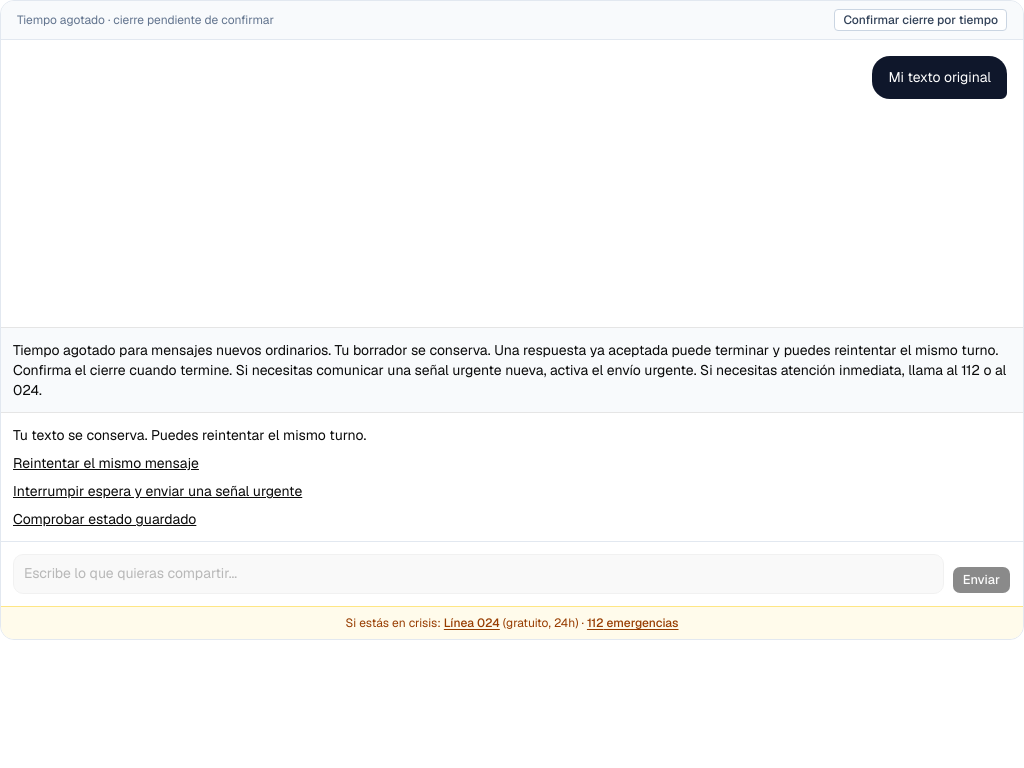
it: allows retrying the same accepted turn after the displayed deadline
Click the button "Reintentar el mismo mensaje": {"x": 106, "y": 463} [13,453,199,473]
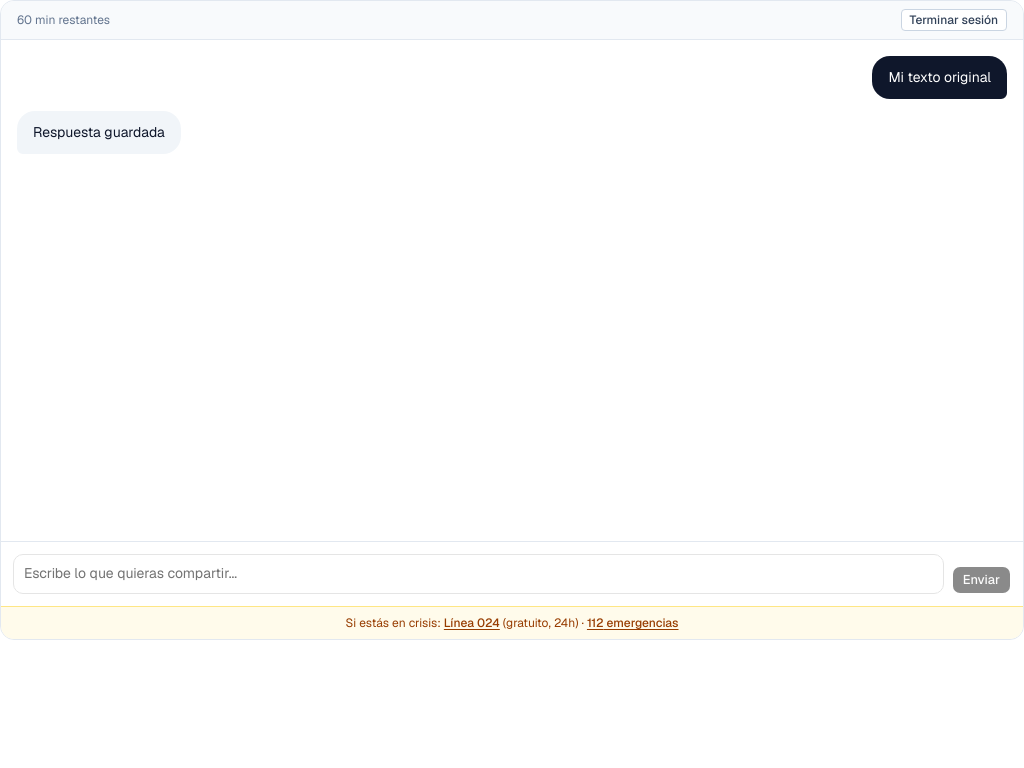
Result: the text "Respuesta guardada" is shown at [33,123,165,141]
